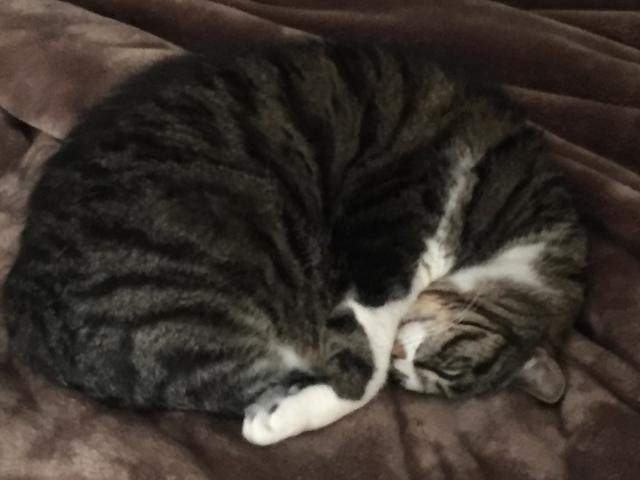playdoh: (10, 45, 591, 447)
